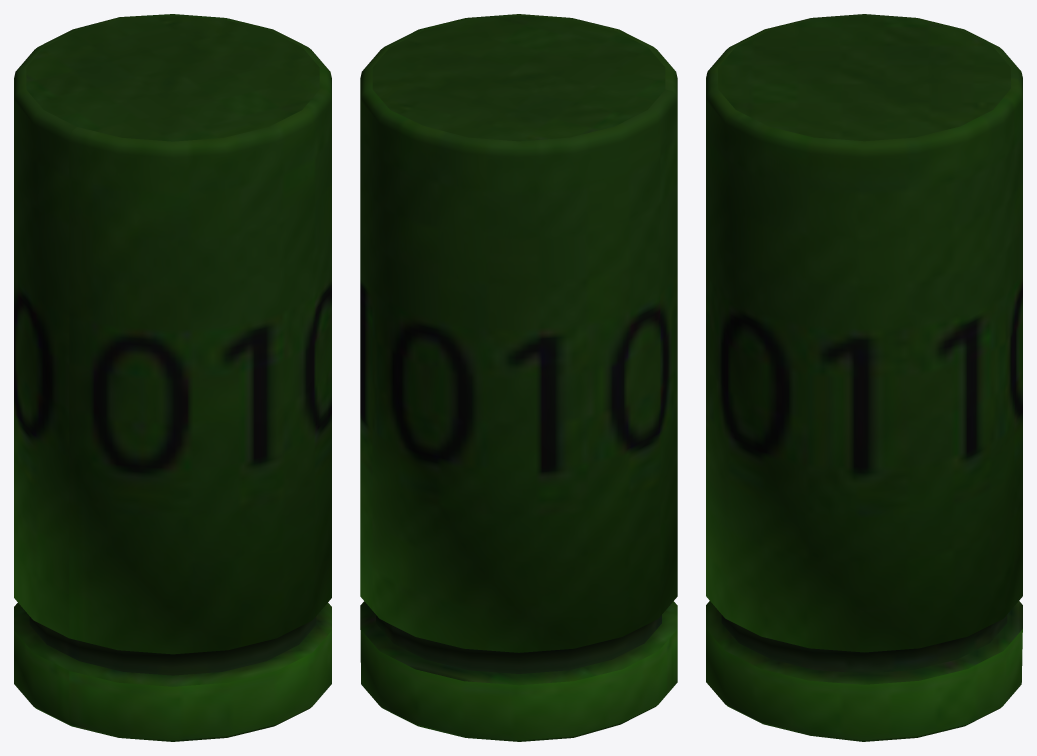
The model's file is CapacitorSmall01.FBX.
3 views of the same model, side by side, from view 1: azimuth 30°, elevation 25°; view 2: azimuth 150°, elevation 25°; view 3: azimuth 270°, elevation 25° (orthographic).
Parts seen in each view (by area): view 1: Cylinder001; view 2: Cylinder001; view 3: Cylinder001.
Boxes of the visible parts, x1=… form: Cylinder001: x1=14, y1=14, x2=331, y2=741; Cylinder001: x1=360, y1=14, x2=677, y2=741; Cylinder001: x1=706, y1=14, x2=1022, y2=741.
Size of the model in its own units: 10.4 by 22.05 by 10.24.
Materials: 1 (1 with a texture image).
